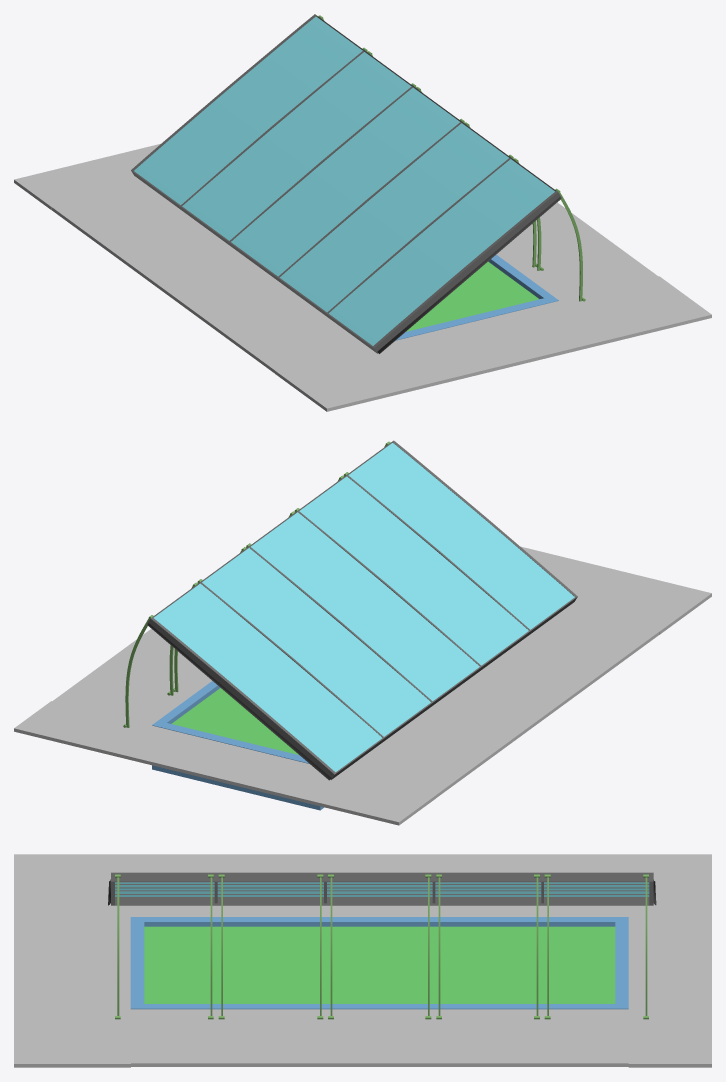
The model's file is Antares.glb.
3 renders of one model, top to bottom at view 1: azimuth 30°, elevation 25°; view 2: azimuth 150°, elevation 25°; view 3: azimuth 270°, elevation 25°, orthographic. The views are drawn at different scales.
Visible parts, largest first — view 1: Line033, Box325, Box327, Box328, entity_1, Line032, Box326, Plane004; view 2: Line033, Box325, Box326, entity_1, Box328, Box327, Line032, Plane005; view 3: entity_1, Box328, Box327, Box326, Box325, Line032, Line033, Box288, Box287, Box289, Box286, Box290 (+6 smaller).
Boxes of the visible parts, x1,y1,x2,y2 form: Line033: [134, 16, 554, 345]; Box325: [51, 184, 395, 372]; Box327: [274, 276, 711, 411]; Box328: [496, 202, 658, 303]; entity_1: [181, 50, 558, 340]; Line032: [131, 14, 561, 353]; Box326: [14, 143, 160, 209]; Plane004: [377, 197, 561, 353]; Line033: [153, 443, 574, 772]; Box325: [341, 604, 659, 797]; Box326: [14, 701, 436, 825]; entity_1: [152, 475, 529, 810]; Box328: [52, 629, 211, 727]; Box327: [521, 546, 711, 634]; Line032: [147, 440, 577, 779]; Plane005: [147, 623, 331, 780]; entity_1: [130, 882, 628, 1009]; Box328: [131, 1009, 628, 1066]; Box327: [14, 854, 130, 1067]; Box326: [628, 854, 711, 1067]; Box325: [118, 854, 633, 917]; Line032: [111, 872, 653, 905]; Line033: [115, 882, 649, 896]; Box288: [115, 887, 649, 888]; Box287: [115, 890, 649, 891]; Box289: [115, 884, 649, 884]; Box286: [115, 894, 649, 894]; Box290: [115, 882, 648, 882].
Bounding box in the file's own units: 360 × 144 × 507.
